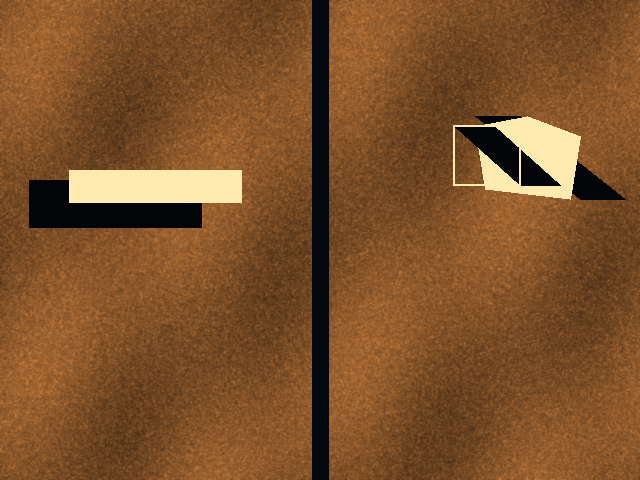Metal Object: (69, 170, 241, 202)
Plastic Debris: (453, 125, 520, 185)
Unknown Debris: (475, 116, 580, 199)
